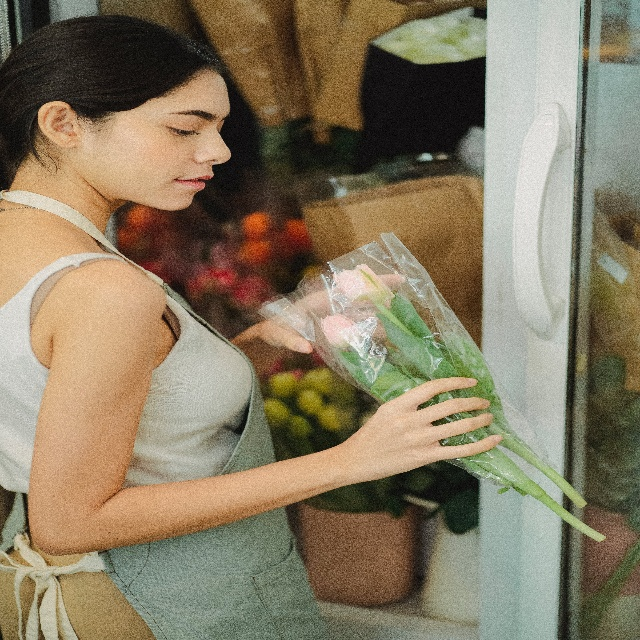Sin_guantes: (368, 373, 501, 477)
